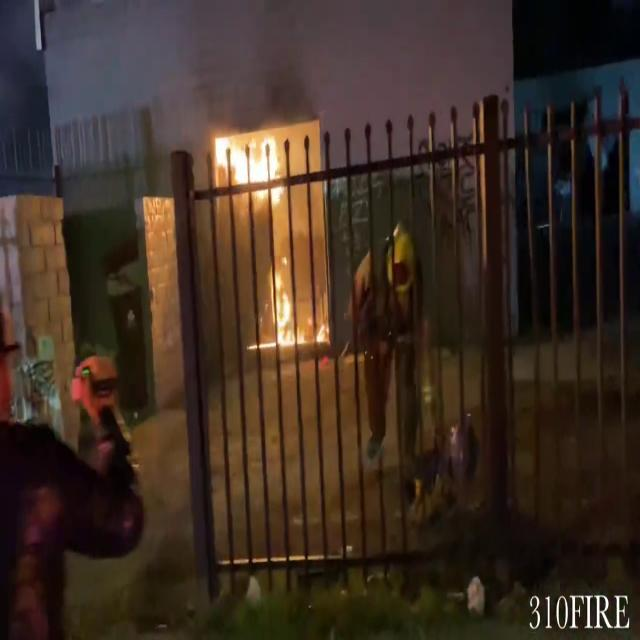Fire: (211, 122, 285, 204), (266, 255, 300, 357)
